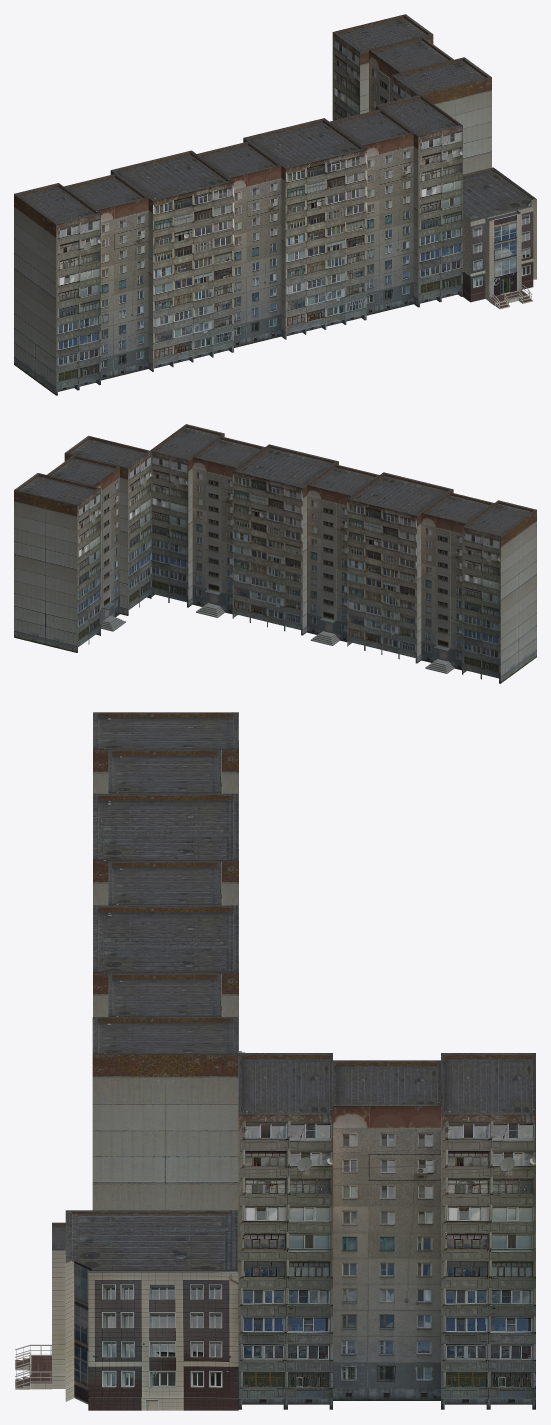
The model's file is Lhouse_1.fbx.
3 renders of one model, top to bottom at view 1: azimuth 30°, elevation 25°; view 2: azimuth 150°, elevation 25°; view 3: azimuth 270°, elevation 25°, orthographic. The views are drawn at different scales.
Visible parts, largest first — view 1: 75f1b2b4-99b3-4c5a-889b-375205ee4442; view 2: 75f1b2b4-99b3-4c5a-889b-375205ee4442; view 3: 75f1b2b4-99b3-4c5a-889b-375205ee4442.
Boxes of the visible parts, x1,y1,x2,y2 form: 75f1b2b4-99b3-4c5a-889b-375205ee4442: (14, 14, 536, 395); 75f1b2b4-99b3-4c5a-889b-375205ee4442: (14, 424, 536, 683); 75f1b2b4-99b3-4c5a-889b-375205ee4442: (15, 712, 535, 1410).
Bounding box in the file's own units: 75.7 × 25.81 × 41.28.
1 material, 1 textured.
